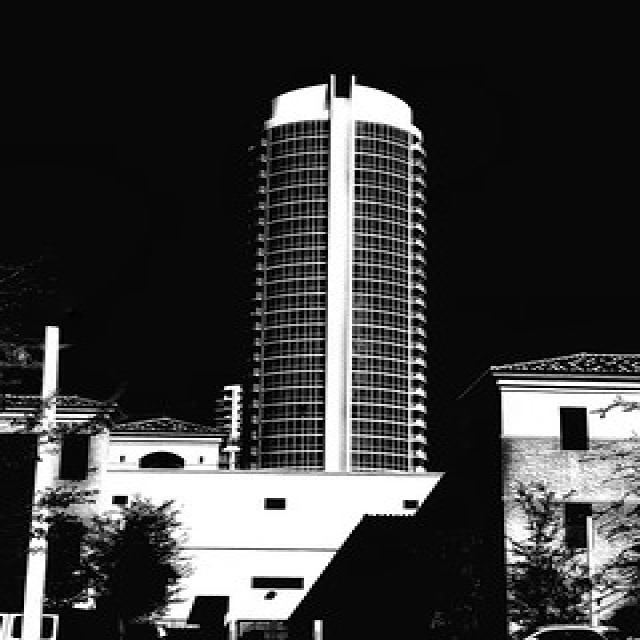building: (243, 75, 429, 479)
